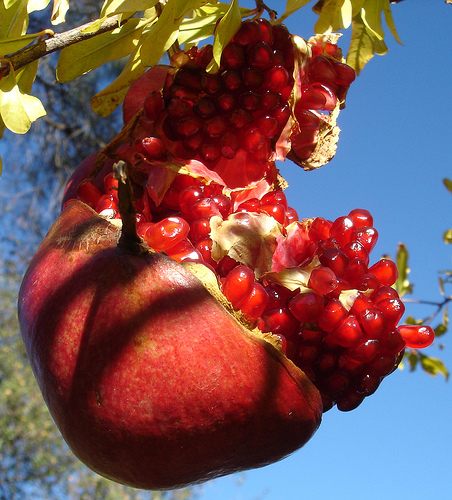pomogranate: (16, 16, 435, 491)
